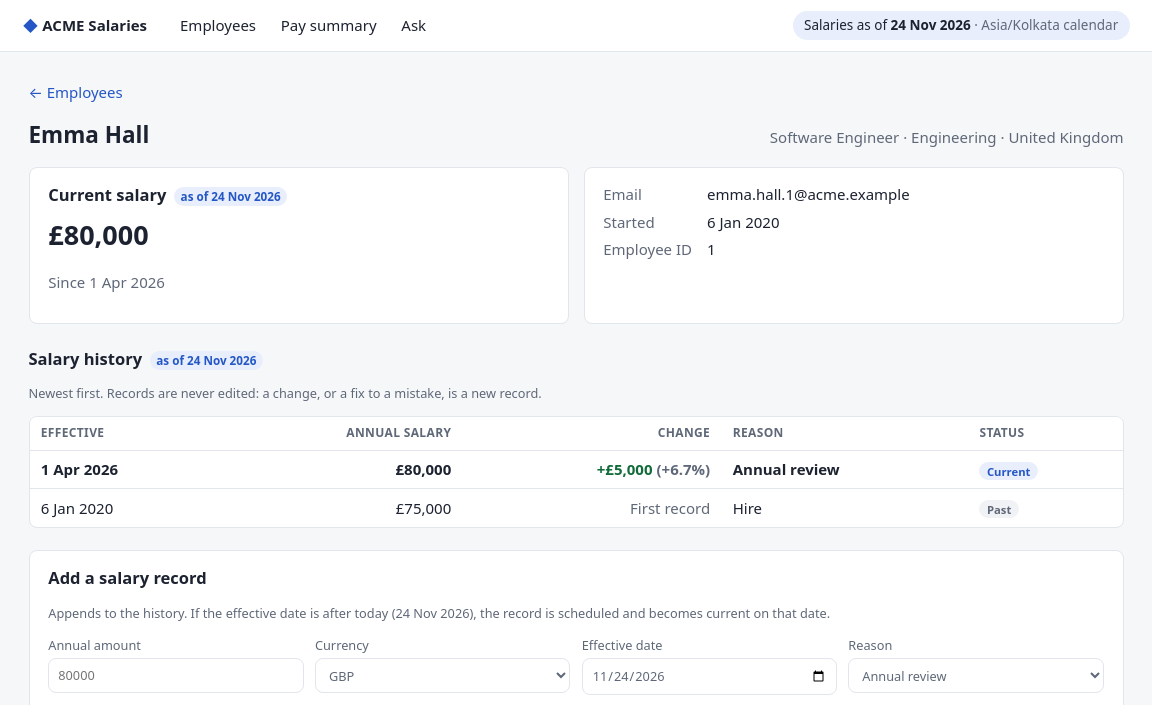
it: add salary record form › posts integer minor units, then reloads the history
Expected: the heading "Emma Hall" is shown, [28,118,149,152]
In the field labelled "Annual amount": x=176, y=675 [48,658,304,692], type "85,000.50"
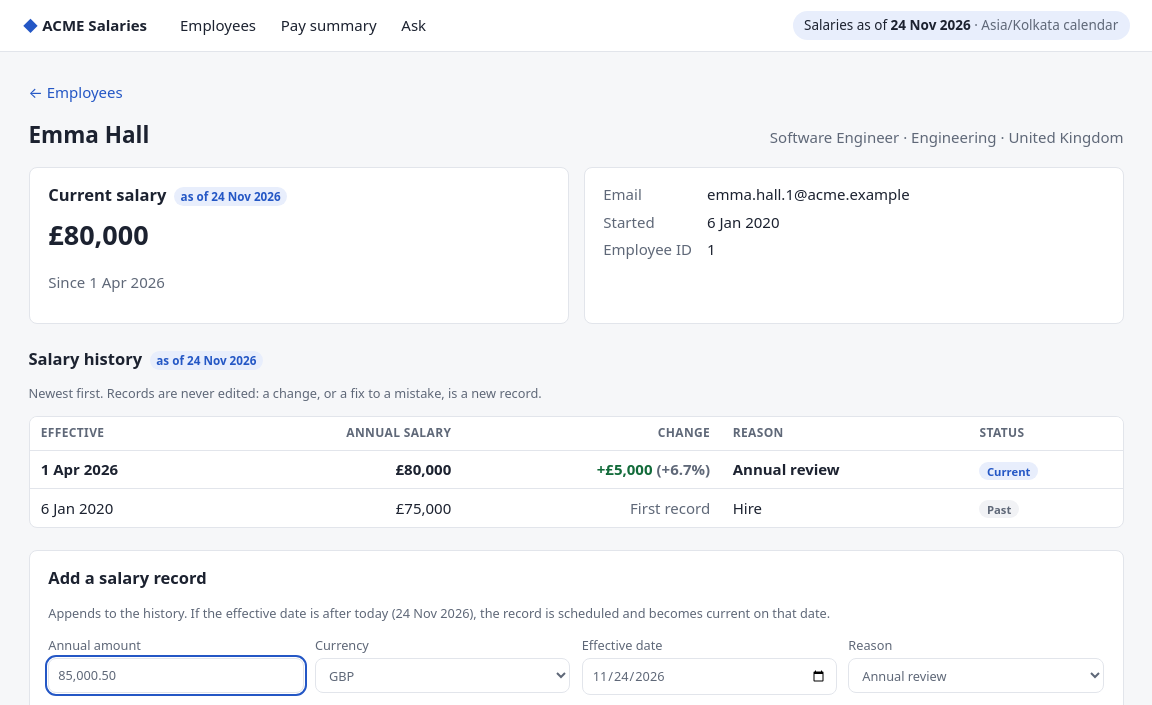
In the date field labelled "Effective date": x=709, y=676 [582,658,837,694], type "2026-12-01"
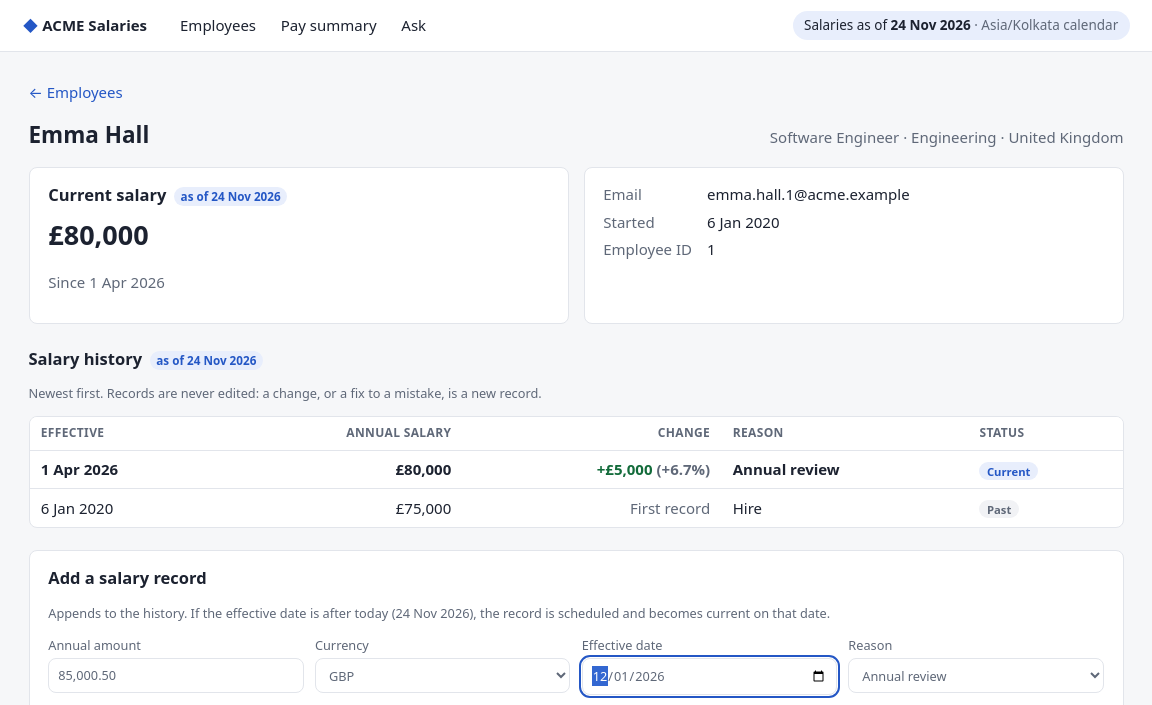
Select "Promotion" in the dropdown labelled "Reason": x=976, y=676 [848,658,1104,693]
(page scrolled)
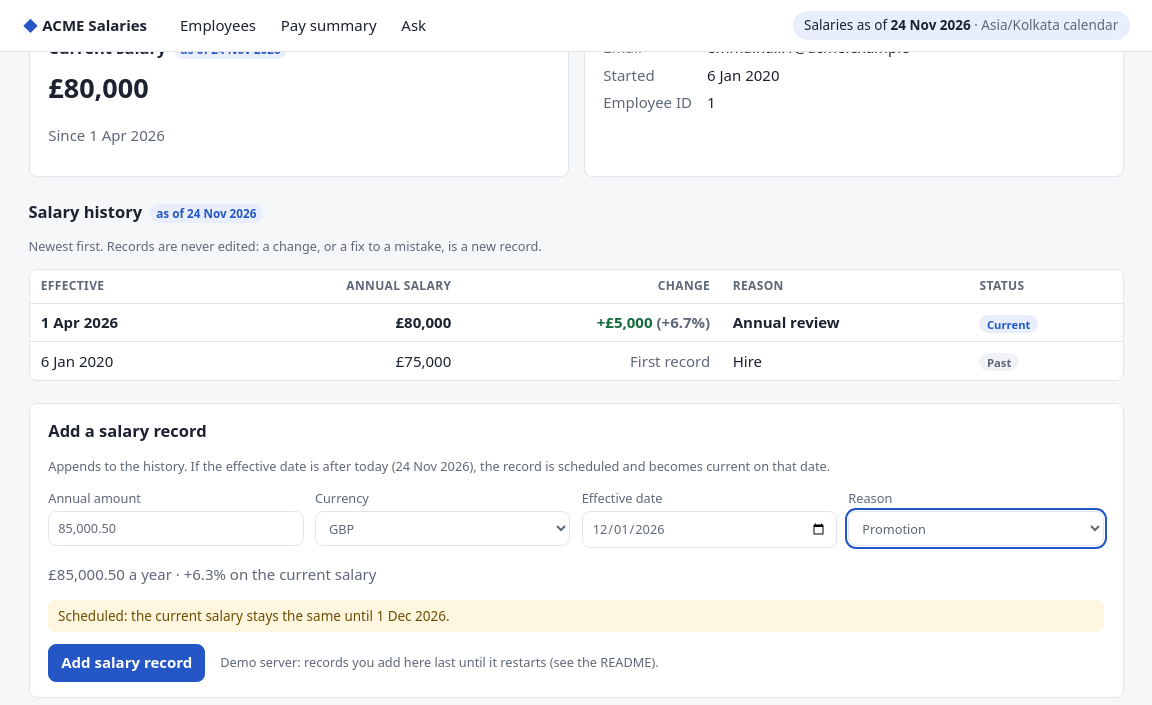
Now the text "£85,000.50 a year · +6.3% on the current salary" is shown, box [48,564,376,584]
Click the button "Add salary record": x=127, y=662 [48,644,205,682]
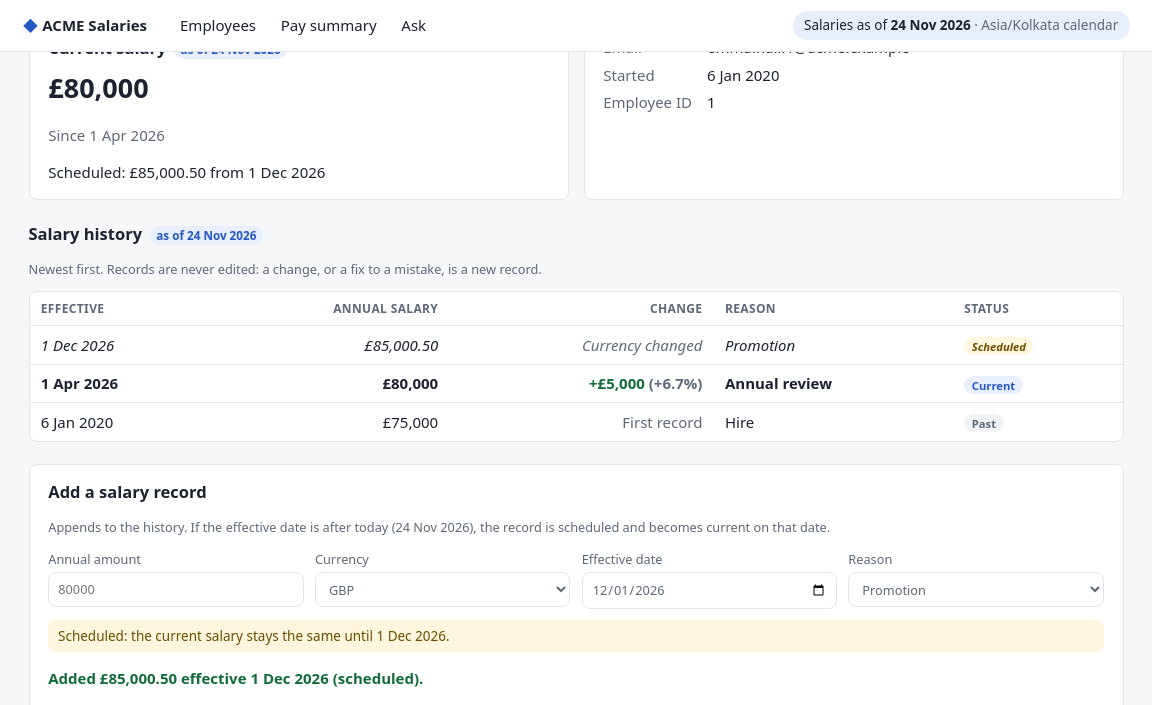
Now the message reads "Added £85,000.50 effective 1 Dec 2026 (scheduled).", box [48,668,423,688]
Now the field labelled "Annual amount" is empty, box [48,572,304,606]
